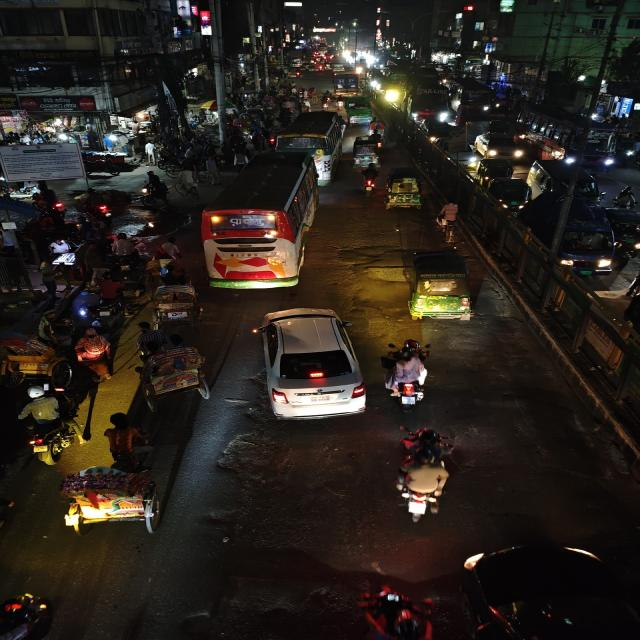bicycle: (432, 200, 463, 242)
bus: (200, 150, 324, 292), (517, 104, 622, 168), (276, 110, 347, 182), (404, 71, 450, 123), (449, 78, 496, 120)
car: (250, 306, 367, 423), (515, 192, 617, 276), (528, 159, 602, 199), (473, 157, 528, 201), (480, 175, 531, 211), (471, 130, 525, 160), (417, 118, 462, 146), (473, 158, 518, 184), (442, 145, 480, 169)
cng: (450, 540, 640, 640), (404, 247, 474, 327), (608, 206, 640, 259), (350, 134, 383, 168), (617, 131, 640, 167)
motorcycle: (390, 426, 460, 526), (15, 386, 83, 462), (378, 337, 434, 412), (0, 591, 55, 639), (104, 232, 148, 262), (152, 239, 180, 275), (356, 163, 381, 196), (612, 184, 640, 212), (369, 120, 388, 136)
pedestrian: (141, 172, 172, 204), (176, 166, 200, 196), (204, 154, 223, 185), (232, 146, 250, 169)
pickup_van: (346, 98, 375, 125)
rickshaw: (54, 412, 167, 535), (129, 325, 213, 405), (0, 332, 73, 388), (149, 280, 204, 326), (383, 166, 428, 212), (70, 330, 113, 362)
truck: (332, 72, 362, 99)
